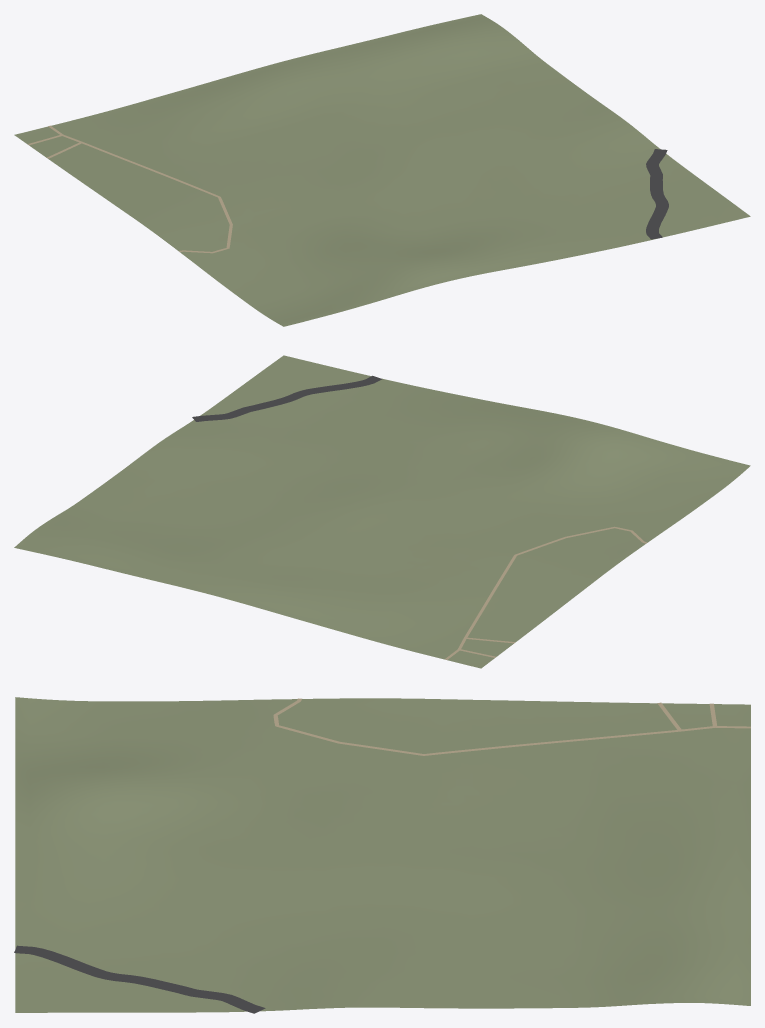
3 views of the same model, one above another, from view 1: azimuth 30°, elevation 25°; view 2: azimuth 150°, elevation 25°; view 3: azimuth 270°, elevation 25° (orthographic). The views are drawn at different scales.
Visible parts, largest first — view 1: ground, road, path; view 2: ground, road, path; view 3: ground, road, path.
Boxes of the visible parts, x1,y1,x2,y2 form: ground: [14, 14, 750, 326]; road: [646, 149, 668, 239]; path: [28, 125, 232, 253]; ground: [14, 355, 750, 668]; road: [192, 375, 382, 421]; path: [445, 526, 647, 659]; ground: [15, 697, 750, 1012]; road: [14, 945, 265, 1013]; path: [273, 698, 750, 755].
Size of the model in its own units: 253 by 6.5 by 251.
